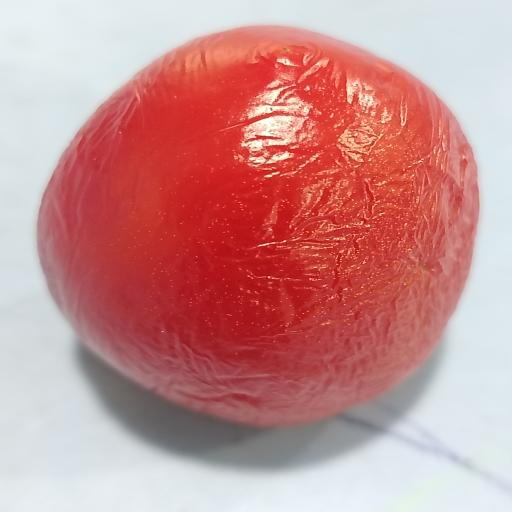spoiled: (38, 26, 478, 425)
